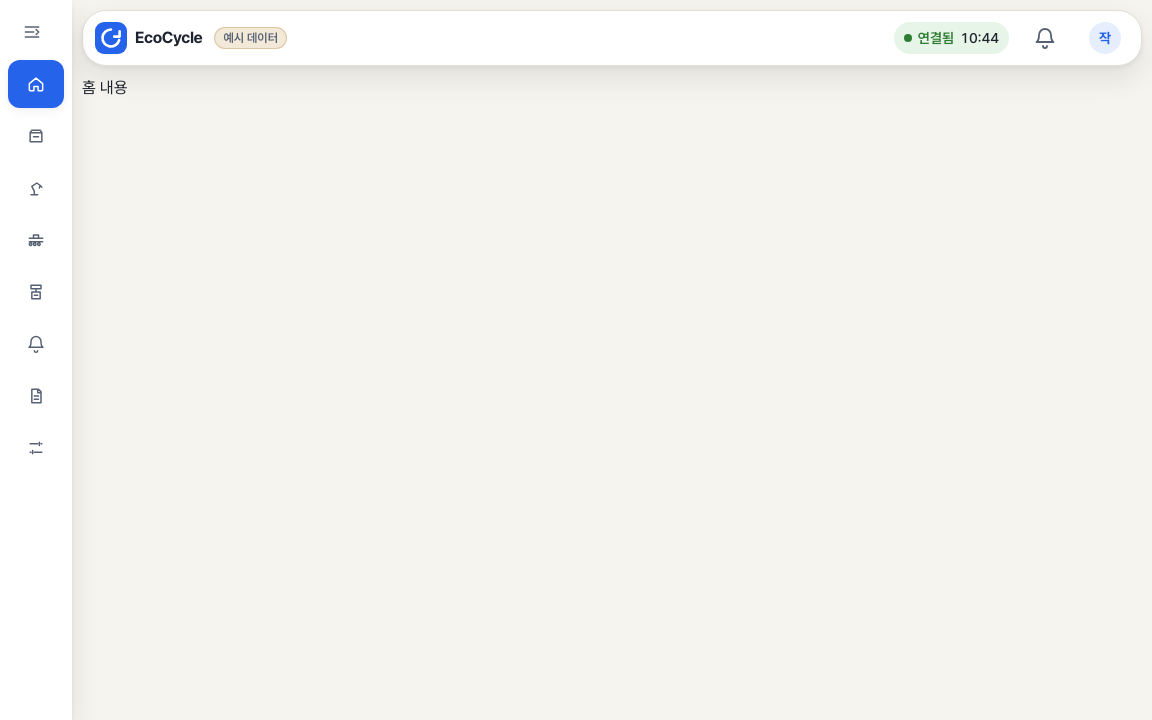
Scenario: AppShell › 메뉴를 누르면 화면이 바뀐다
Expected: the element showing "홈 내용" is shown, 82,78 -> 128,97
Click the link named "알람" at (45, 349), box 26,334 -> 63,364
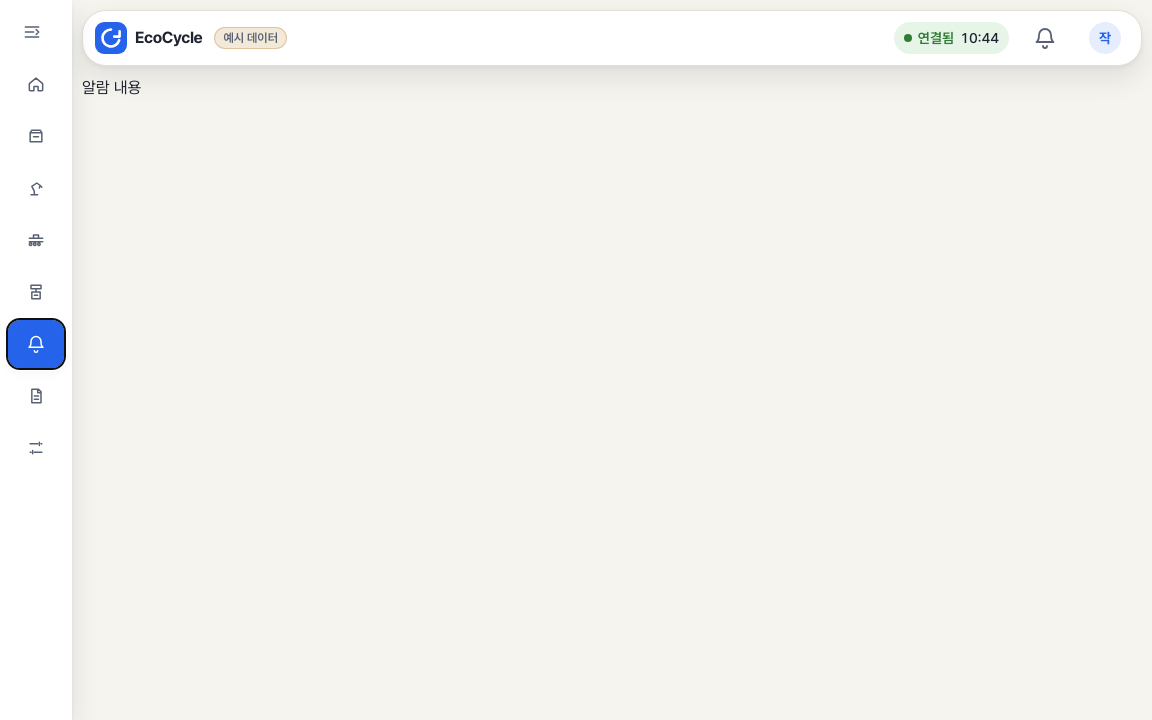
Result: the element showing "알람 내용" is shown at 82,78 -> 141,97
